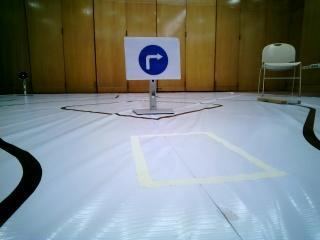right: (126, 39, 181, 77)
